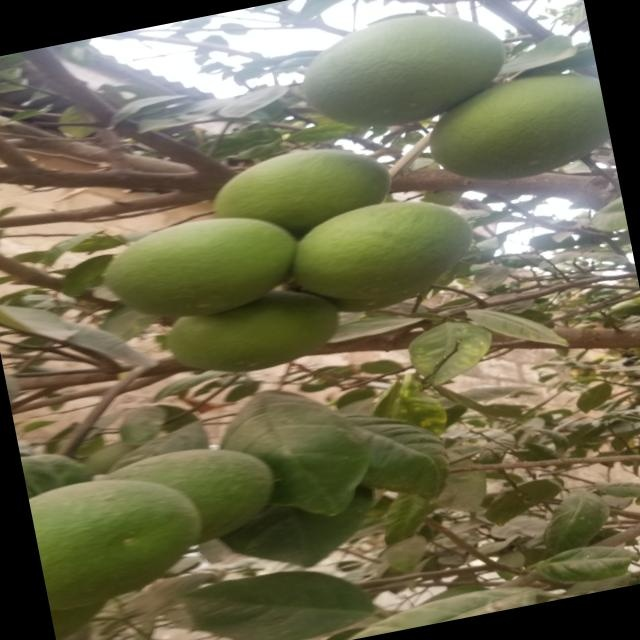agrume: (78, 197, 310, 341), (285, 0, 504, 140), (29, 454, 207, 610), (289, 193, 486, 317), (418, 69, 614, 193)
